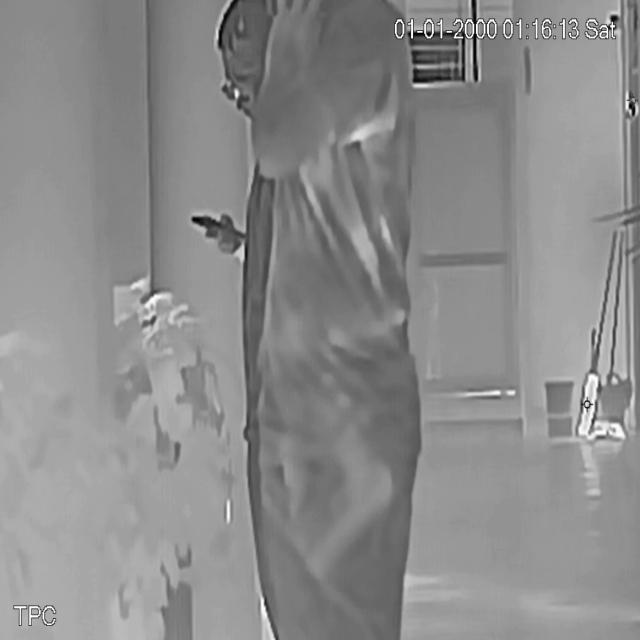Weapon: (303, 425, 410, 597)
